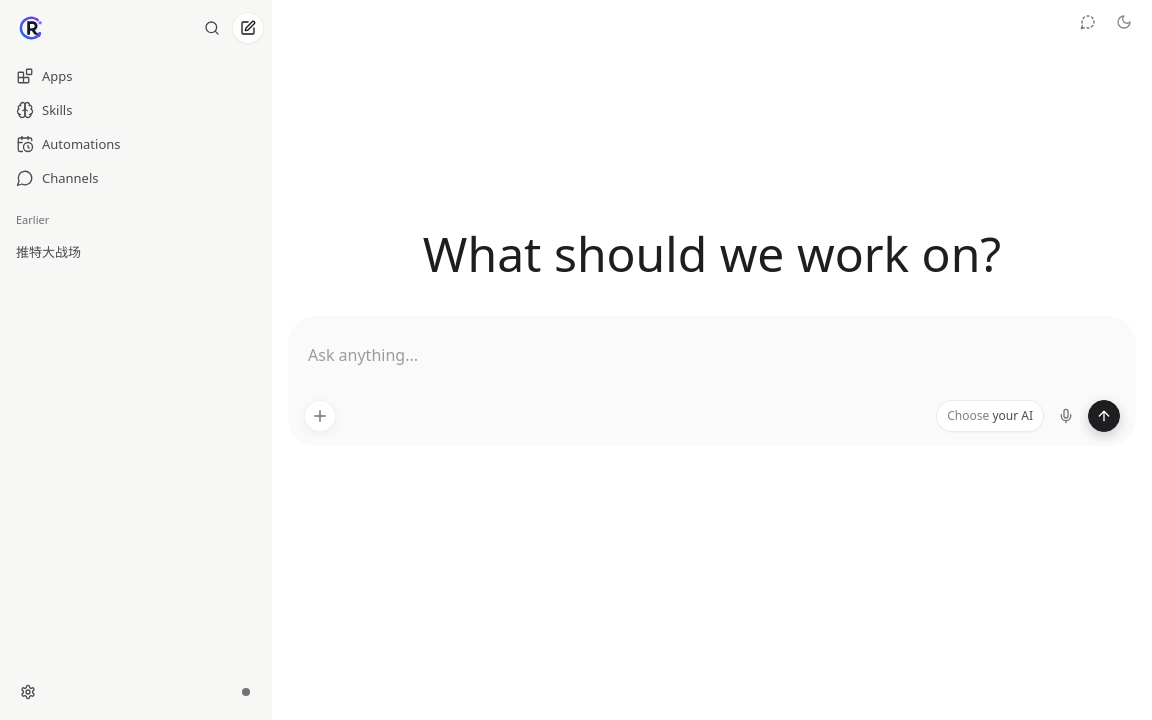
App layout › keeps automation linked-chat titles in sync with live sidebar renames
This screenshot has width=1152, height=720.
Expected: the button "推特大战场" is shown, [16,236,208,268]
Click the button "Automations": coordinates (136, 144) [8,128,264,160]
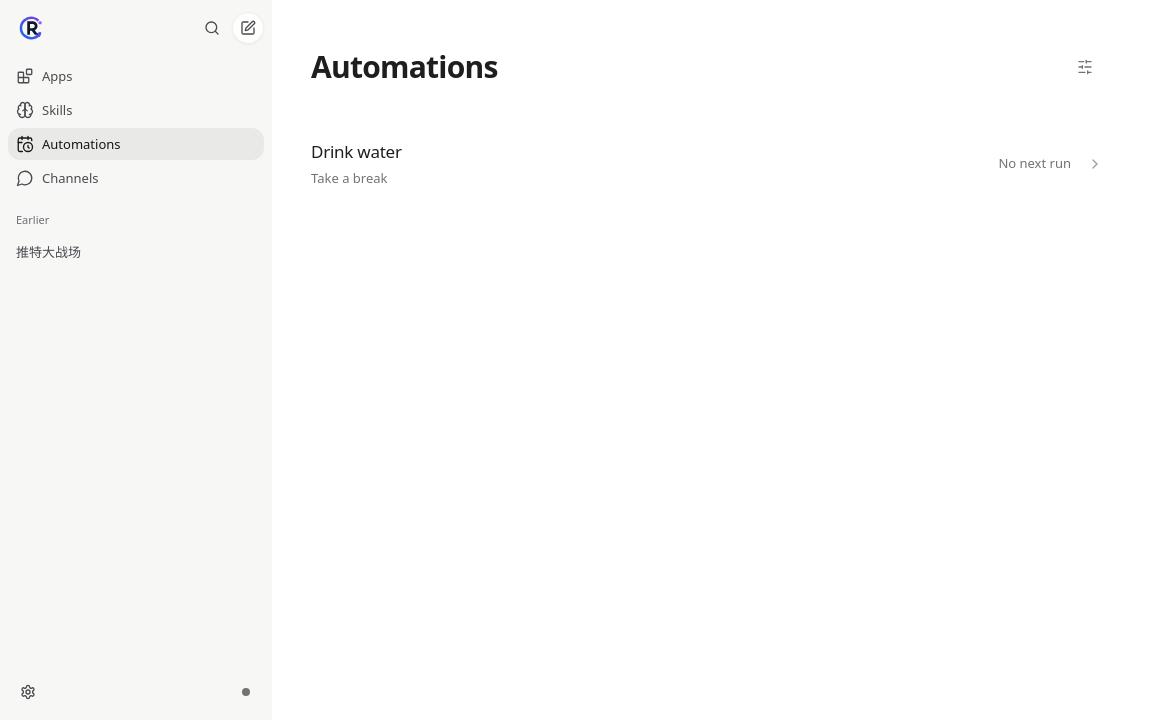
Click the button "Drink water Take a break No next run": coordinates (356, 151) [311,118,1103,210]
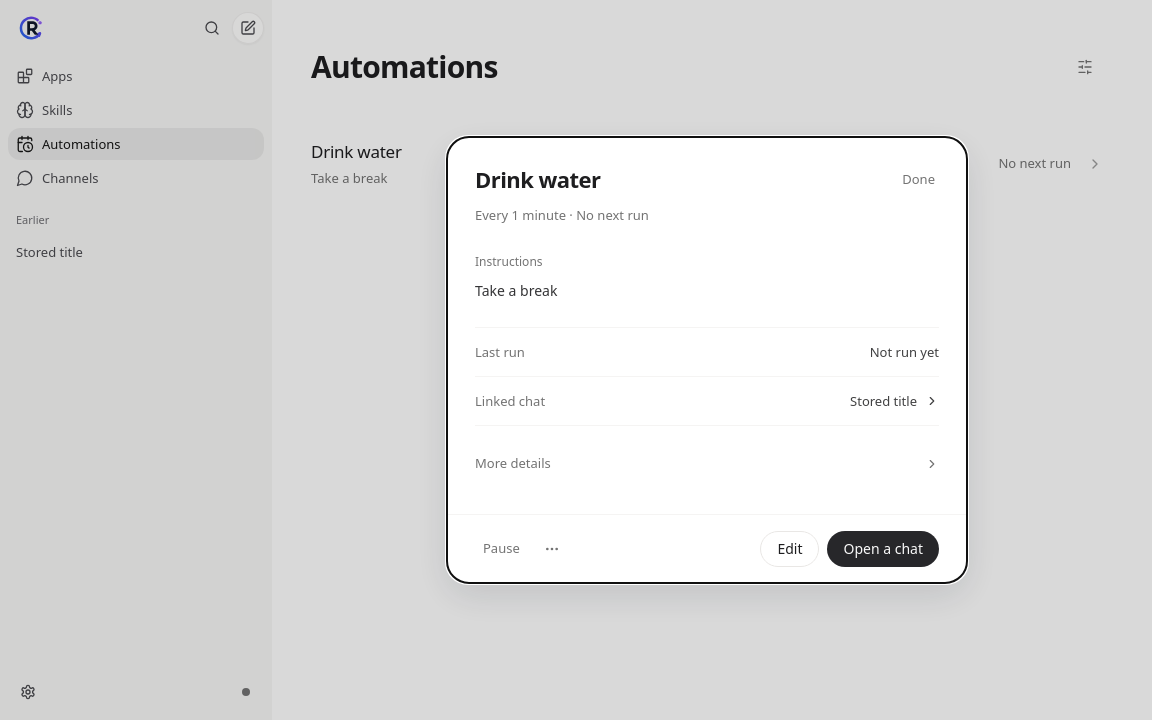
Expected: the 1st text "Stored title" is shown, [16,243,83,261]
